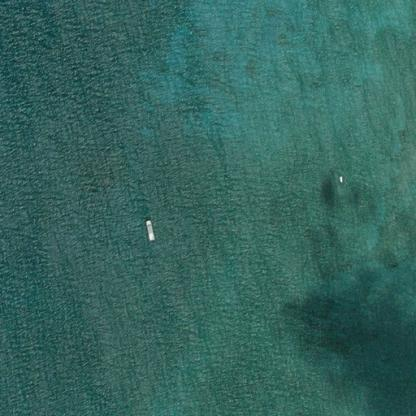ship: (139, 214, 161, 248), (333, 168, 346, 188)
